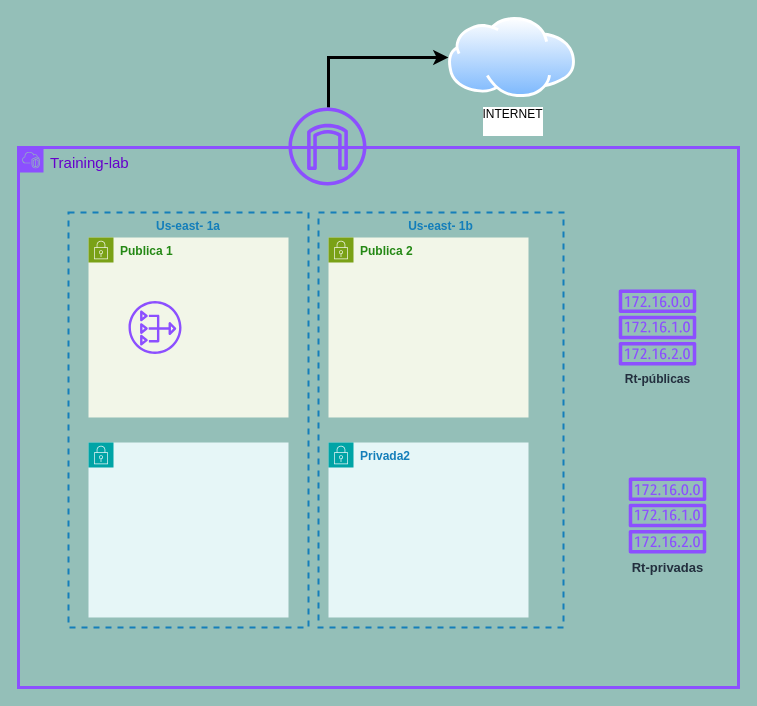
Image size: 757x706. Some labels were removed from this diagram. Here are the shapes that lost their labels. From the top down, the centre of each, then its label:
At (327,146): "1-traininglab-igw".
At (188,530): "Privada1".
